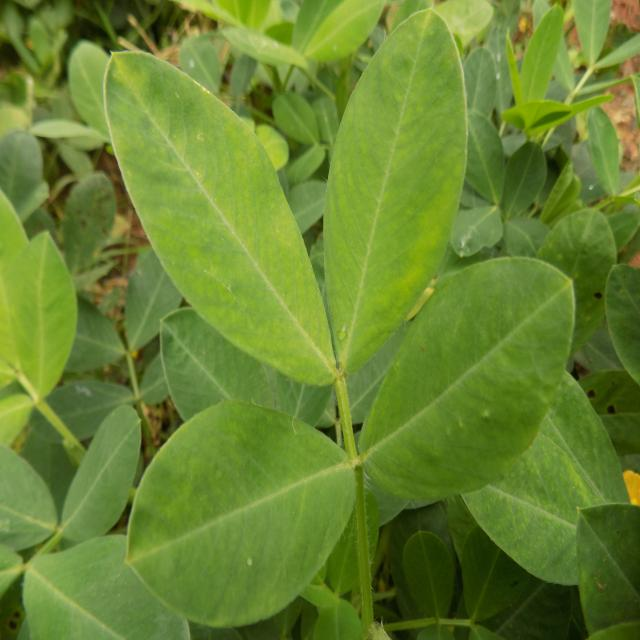Ground nut_healthy: (106, 44, 343, 381), (326, 4, 466, 384), (122, 397, 358, 622), (367, 259, 572, 490), (153, 292, 285, 445), (6, 226, 76, 397), (60, 399, 140, 543)
